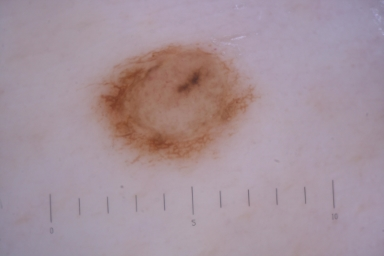melanoma: (94, 39, 262, 163)
